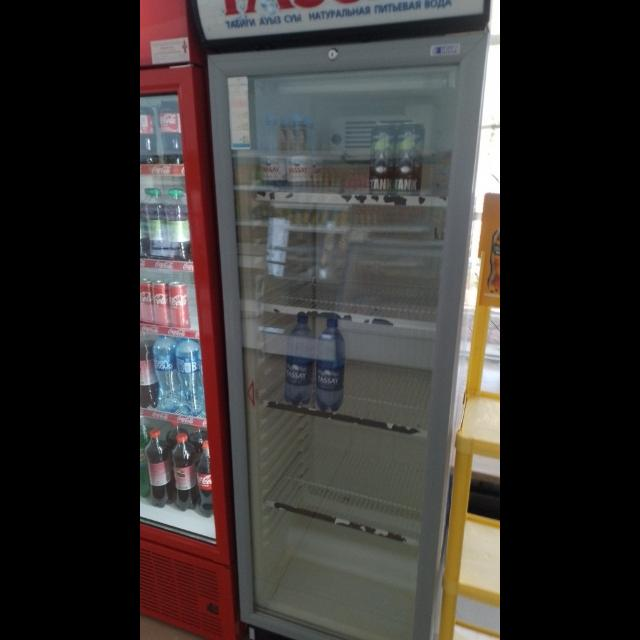Cooling-Display: (193, 1, 491, 640)
